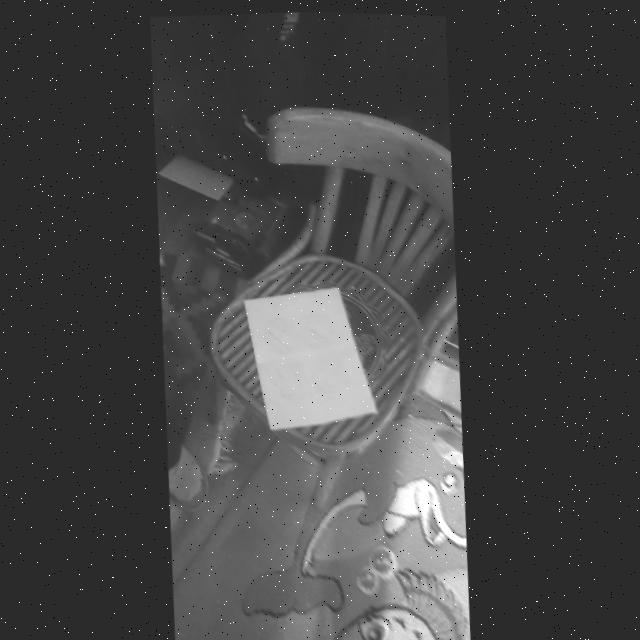document: (245, 287, 378, 431)
